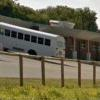Bus: (2, 16, 67, 62)
